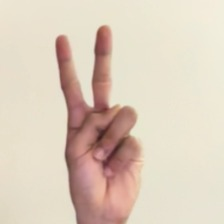K: (32, 16, 171, 215)
